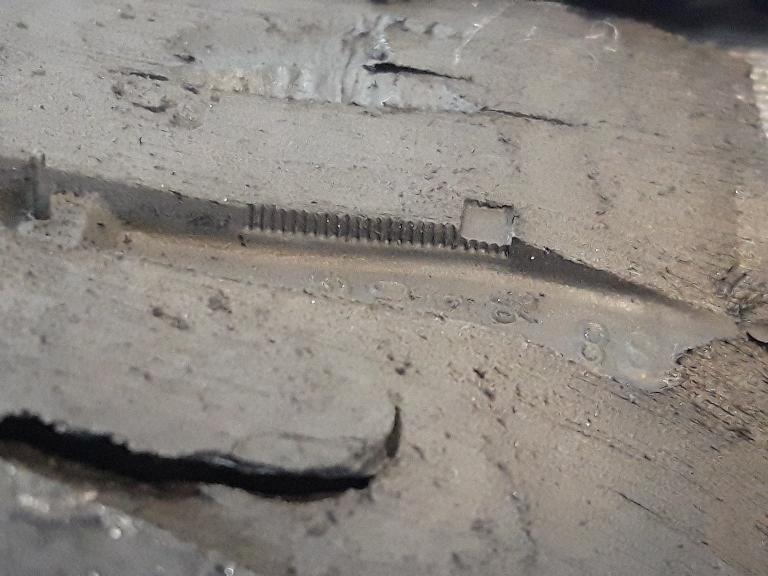temoin:25: (392, 185, 524, 270)
